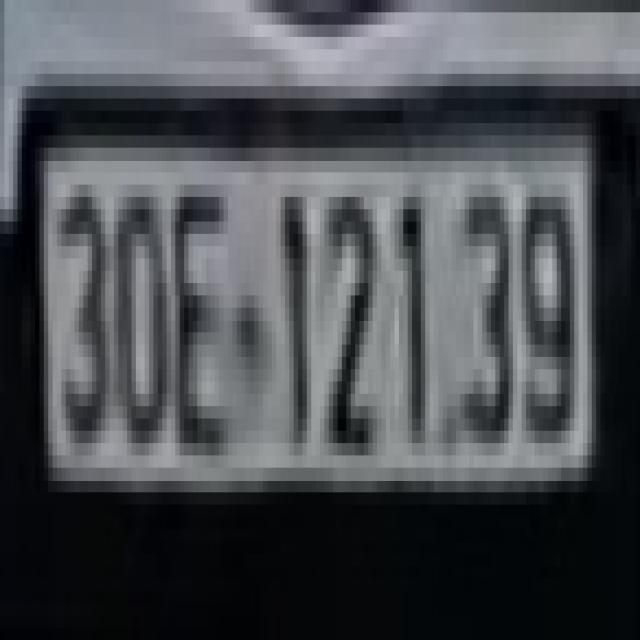0: (114, 184, 167, 456)
1: (272, 184, 316, 456), (394, 184, 434, 456)
2: (320, 172, 377, 456)
3: (456, 172, 517, 456), (52, 185, 110, 443)
9: (522, 185, 578, 443)
E: (171, 172, 232, 468)
